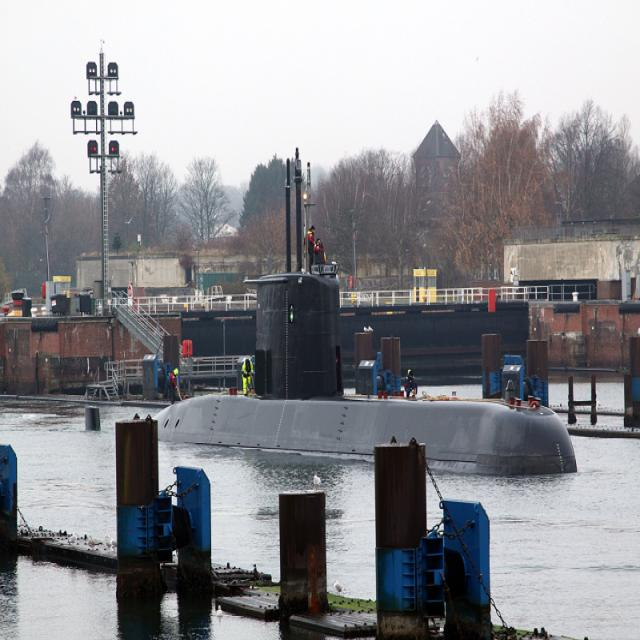submarine: (70, 135, 583, 476)
